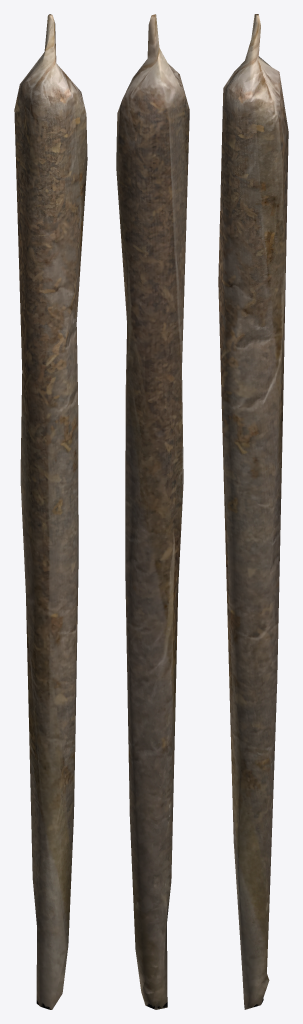
3 renders of one model, left to right at view 1: azimuth 30°, elevation 25°; view 2: azimuth 210°, elevation 25°; view 3: azimuth 330°, elevation 25°, orthographic.
Parts seen in each view (by area): view 1: Simplygon_Proxy_5153e068-431a-4114-9fa9-ebc27b8ea276_Simplyg; view 2: Simplygon_Proxy_5153e068-431a-4114-9fa9-ebc27b8ea276_Simplyg; view 3: Simplygon_Proxy_5153e068-431a-4114-9fa9-ebc27b8ea276_Simplyg.
Boxes of the visible parts, left/top/right/bottom form: Simplygon_Proxy_5153e068-431a-4114-9fa9-ebc27b8ea276_Simplyg: left=14, top=14, right=87, bottom=1009; Simplygon_Proxy_5153e068-431a-4114-9fa9-ebc27b8ea276_Simplyg: left=116, top=14, right=189, bottom=1009; Simplygon_Proxy_5153e068-431a-4114-9fa9-ebc27b8ea276_Simplyg: left=218, top=14, right=288, bottom=1009.
Bounding box in the file's own units: 0.1855 × 2.83 × 0.1802.
1 material, 1 textured.
